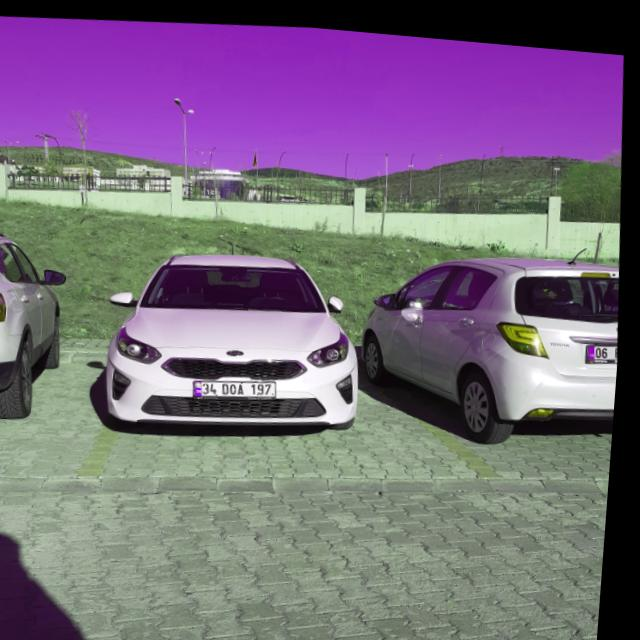license_plate: (198, 372, 282, 396)
